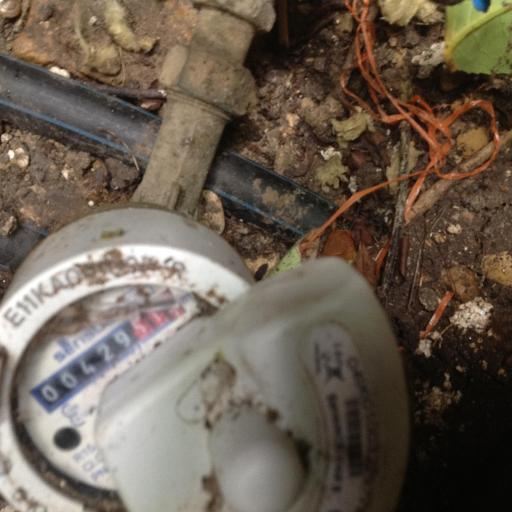0: (32, 376, 66, 411), (51, 363, 85, 397)
1: (141, 300, 170, 331)
2: (88, 336, 122, 370)
4: (70, 349, 105, 385)
5: (124, 310, 157, 343)
9: (106, 323, 139, 356)
border_water_meter_number: (28, 284, 192, 419)
